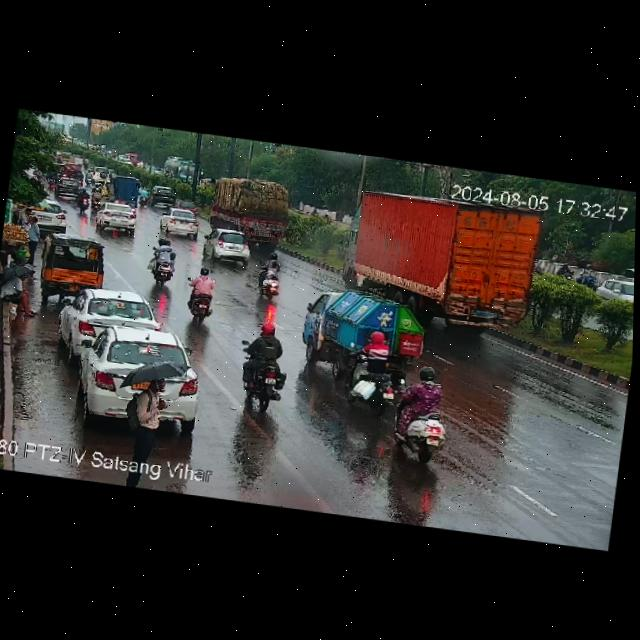bus: (161, 154, 205, 185)
car: (64, 322, 211, 433), (61, 285, 160, 350), (37, 233, 110, 297), (202, 229, 253, 268), (591, 266, 634, 309), (20, 197, 69, 232), (89, 203, 141, 235), (160, 208, 206, 238), (106, 174, 145, 207), (148, 184, 175, 208), (55, 176, 82, 200), (175, 198, 197, 215), (92, 165, 109, 182)
motorcycle: (391, 357, 452, 465), (235, 323, 294, 410), (344, 326, 394, 418), (186, 266, 222, 323), (142, 238, 181, 287), (254, 254, 293, 301), (76, 187, 88, 212), (90, 183, 101, 208), (73, 167, 85, 187), (138, 186, 148, 208), (84, 168, 94, 187), (83, 156, 89, 167)
person: (124, 375, 177, 457), (0, 269, 39, 314), (19, 215, 44, 259)
truck: (341, 180, 553, 334), (298, 282, 402, 379), (209, 176, 299, 249)
